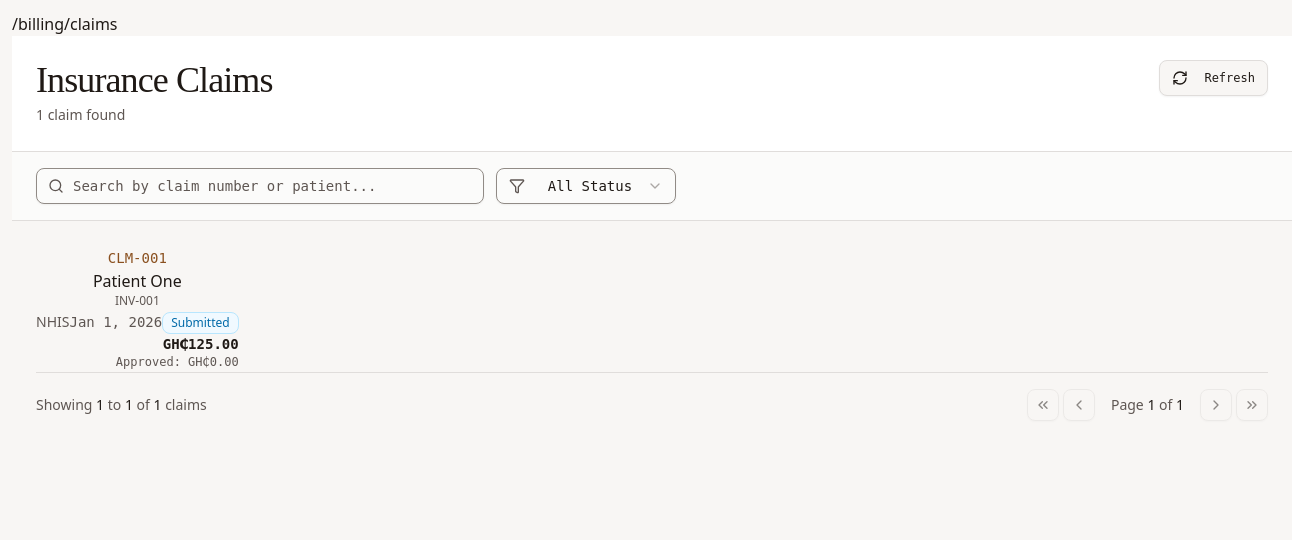
Test: ClaimsPage Omni Search deep links › keeps claim row navigation on the registered claims route
What coordinates should you click on to do the following:
click the button "CLM-001"
I would click on:
 (137, 307)
Its box is [36, 245, 239, 370].
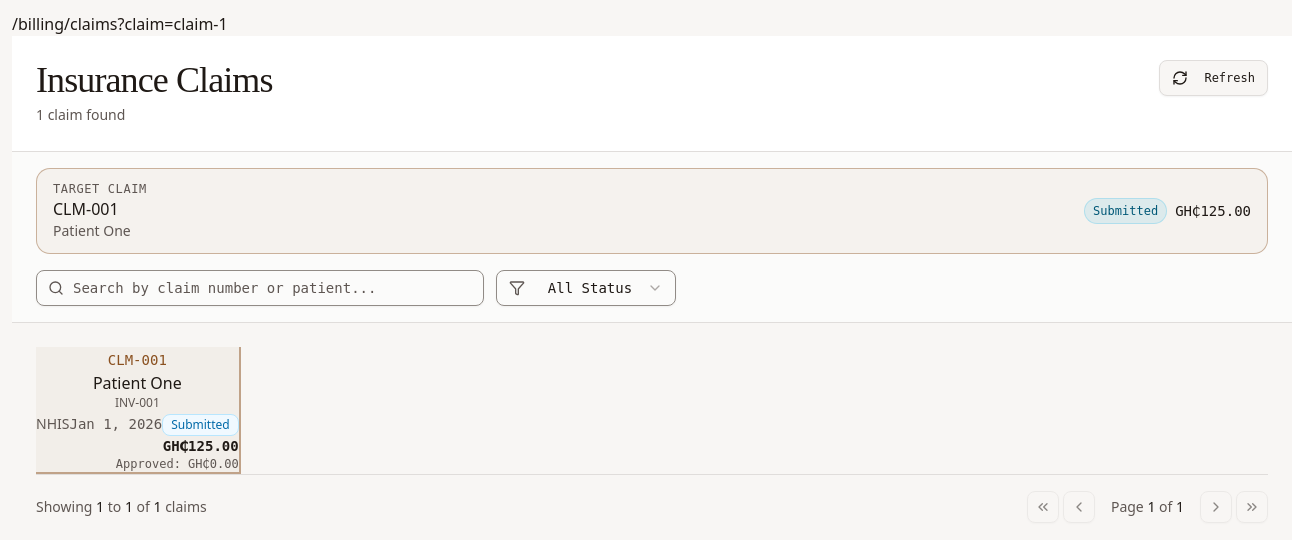
Now the text with test id "location-probe" reads "/billing/claims?claim=claim-1", box [12, 13, 228, 35]
